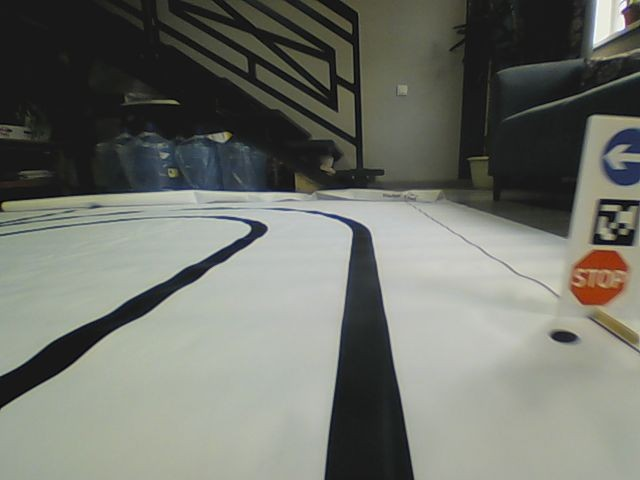Stop: (568, 249, 631, 306)
